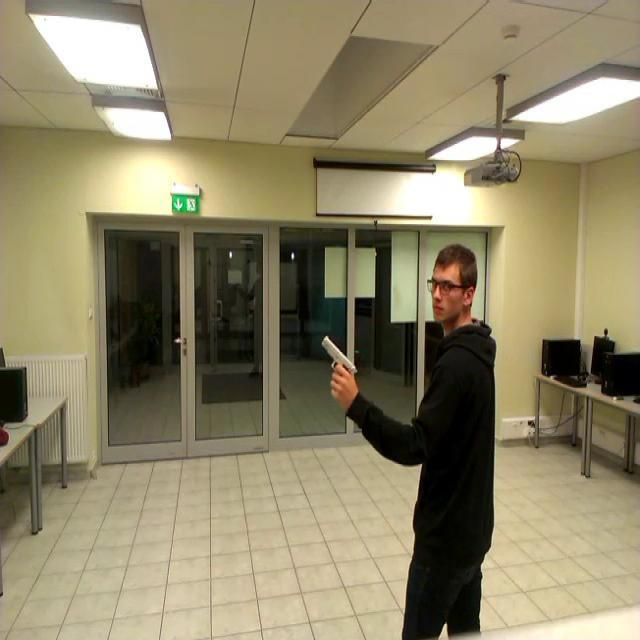weapon: (320, 333, 356, 391)
